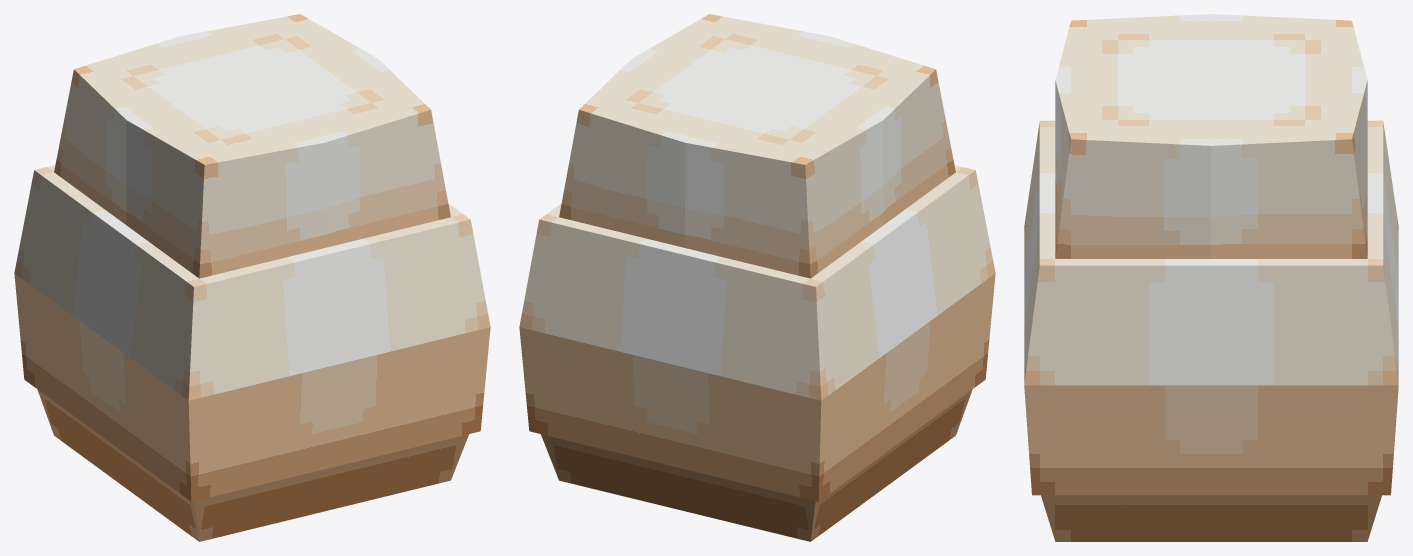
Rendered from chicken-egg.gltf.
3 views of the same model, side by side, from view 1: azimuth 30°, elevation 25°; view 2: azimuth 150°, elevation 25°; view 3: azimuth 270°, elevation 25° (orthographic). The views are drawn at different scales.
Parts seen in each view (by area): view 1: cube (×3); view 2: cube (×3); view 3: cube (×3).
Boxes of the visible parts, box(x1,y1,x2,y2) form: cube (×3): box(14, 14, 490, 541); cube (×3): box(519, 14, 995, 541); cube (×3): box(1024, 14, 1398, 541).
Bounding box in the file's own units: 0.75 × 0.875 × 0.75.
1 material, 1 textured.
